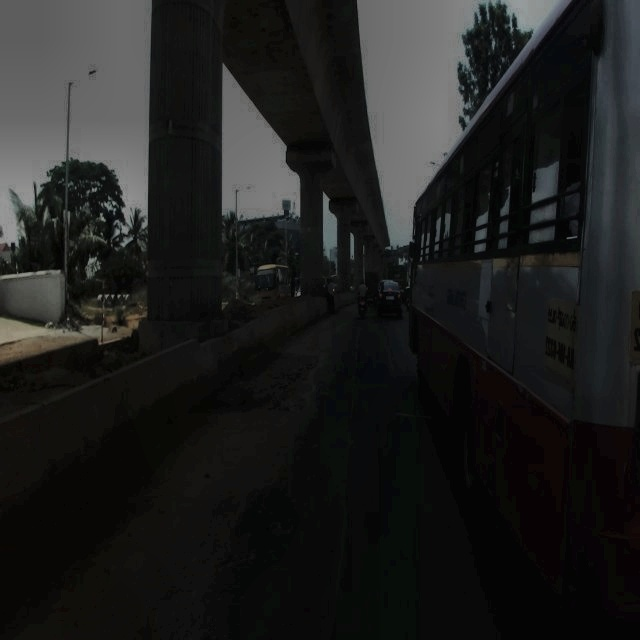Pothole: (201, 316, 315, 420), (246, 480, 318, 558)
